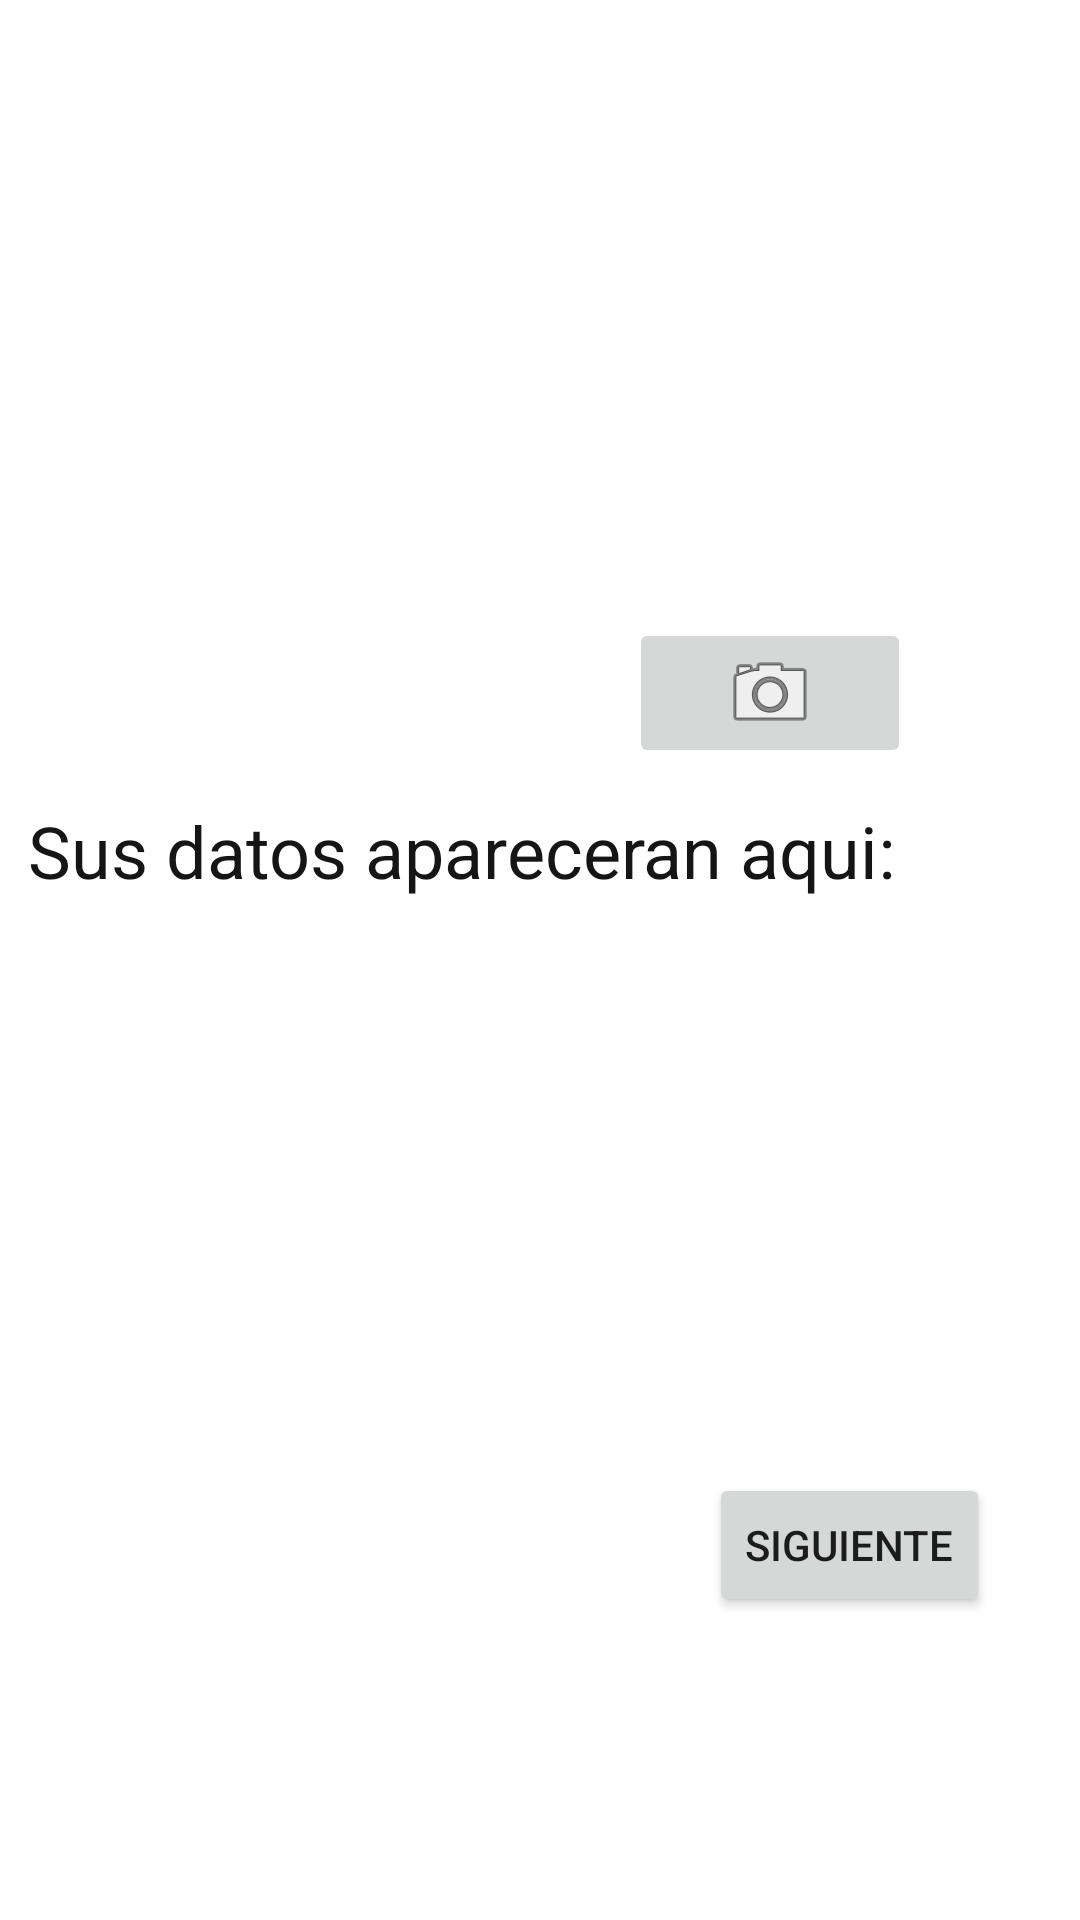

Point at icon controls on the screen. Image size 1080w x 1920h, points as (x,y).
camera: (770,693)
